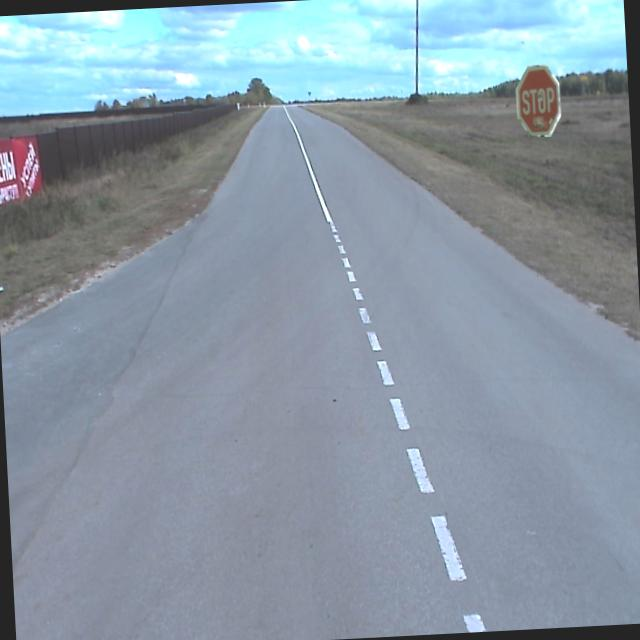road: (1, 104, 640, 640)
